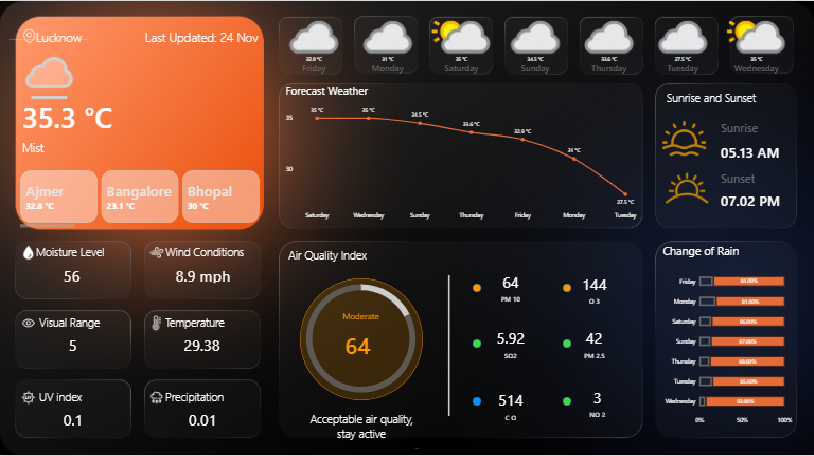

The dashboard page shown, as its layout file describes it:
{"tool":"powerbi","page":{"name":"Orange","canvas":[1920,1080],"ordinal":0},"visuals":[{"type":"shape","box":[707.5,660,290,290],"z":0},{"type":"donutChart","fields":{"Y":["Measure.PM10_Value","Measure.Max_Value"]},"box":[672.5,627.5,357.5,352.5],"z":1000},{"type":"advancedSlicerVisual","fields":{"Values":["Location.location.name"]},"box":[48.3,403.3,565,138.3],"z":2000},{"type":"textbox","box":[52.9,229.2,273.3,99.2],"z":3000},{"type":"textbox","box":[52.9,328.4,401.1,74.9],"z":4000},{"type":"textbox","box":[85,65,240,47.5],"z":5000},{"type":"textbox","box":[342.5,65,290,47.5],"z":6000},{"type":"image","box":[52.9,64.3,32.9,37.1],"z":7000},{"type":"cardVisual","fields":{"Data":["Min(current.current.condition.icon)"]},"box":[17.5,90,197.5,160],"z":8000},{"type":"image","box":[50,578,34,42],"z":9000},{"type":"textbox","title":"Moisture Level","box":[86,578,168,42],"z":10000},{"type":"textbox","title":"Visual Range","box":[92,746,154,42],"z":11000},{"type":"textbox","title":"Wind Conditions","box":[390,578,196,42],"z":12000},{"type":"textbox","title":"Temperature","box":[390,746,162,42],"z":13000},{"type":"textbox","title":"UV index","box":[92,922,130,42],"z":14000},{"type":"image","box":[50,922,34,42],"z":15000},{"type":"image","box":[352,578,34,42],"z":16000},{"type":"image","box":[352,922,34,42],"z":17000},{"type":"image","box":[50,746,34,42],"z":18000},{"type":"image","box":[352,746,34,42],"z":19000},{"type":"textbox","title":"Precipitation","box":[390,922,162,42],"z":20000},{"type":"advanceCardE03760C5AB684758B56AA29F9E6C257B","fields":{"mainMeasure":["Min(current.current.humidity)"]},"box":[48,620,244,66],"z":21000},{"type":"advanceCardE03760C5AB684758B56AA29F9E6C257B","fields":{"mainMeasure":["WindSpeed.WindSpeed"]},"box":[370,620,218,66],"z":22000},{"type":"advanceCardE03760C5AB684758B56AA29F9E6C257B","fields":{"mainMeasure":["Min(current.current.pressure_in)"]},"box":[368,788,218,64],"z":23000},{"type":"advanceCardE03760C5AB684758B56AA29F9E6C257B","fields":{"mainMeasure":["Min(current.current.vis_km)"]},"box":[52,778,240,84],"z":24000},{"type":"advanceCardE03760C5AB684758B56AA29F9E6C257B","fields":{"mainMeasure":["Min(current.current.uv)"]},"box":[52,964,240,64],"z":25000},{"type":"advanceCardE03760C5AB684758B56AA29F9E6C257B","fields":{"mainMeasure":["Min(current.current.precip_in)"]},"box":[370,964,216,64],"z":26000},{"type":"advancedSlicerVisual","fields":{"Values":["forecast_day.Day_Formated"]},"box":[657.5,45,1212.5,137.5],"z":27000},{"type":"lineChart","title":"Forecast Weather","fields":{"Category":["forecast_day.Day_Formated"],"Y":["Sum(forecast_day.forecast.forecastday.day.avgtemp_c)"]},"box":[657.5,182.5,882.5,357.5],"z":28000},{"type":"textbox","title":"Sunrise and Sunset","box":[1573.2,210.6,243.6,41.3],"z":29000},{"type":"textbox","box":[1700,337.5,167.5,47.5],"z":30000},{"type":"textbox","box":[1700,452.5,147.5,40],"z":31000},{"type":"image","box":[1527.5,275,172.5,102.5],"z":32000},{"type":"image","box":[1540,377.5,160,135],"z":33000},{"type":"textbox","title":"Sunset","box":[1700,402.5,167.5,47.5],"z":34000},{"type":"textbox","title":"Sunrise","box":[1700,282.5,167.5,47.5],"z":35000},{"type":"hundredPercentStackedBarChart","title":"Change of Rain","fields":{"Category":["forecast_day.Day_Name"],"Y":["current.Left_Value_Rain","Sum(forecast_day.forecast.forecastday.day.daily_chance_of_rain)"]},"box":[1548,563,337,465],"z":36000},{"type":"textbox","title":"Air Quality Index","box":[680,585,244,40],"z":37000},{"type":"advanceCardE03760C5AB684758B56AA29F9E6C257B","fields":{"mainMeasure":["Min(current.current.air_quality.pm10)"]},"box":[1130,620,150,125],"z":38000},{"type":"advanceCardE03760C5AB684758B56AA29F9E6C257B","fields":{"mainMeasure":["Min(current.current.air_quality.so2)"]},"box":[1130,757.5,150,117.5],"z":39000},{"type":"advanceCardE03760C5AB684758B56AA29F9E6C257B","fields":{"mainMeasure":["Min(current.current.air_quality.o3)"]},"box":[1327.5,625,150,125],"z":40000},{"type":"advanceCardE03760C5AB684758B56AA29F9E6C257B","fields":{"mainMeasure":["Min(current.current.air_quality.no2)"]},"box":[1342.5,895,135,125],"z":41000},{"type":"advanceCardE03760C5AB684758B56AA29F9E6C257B","fields":{"mainMeasure":["Min(current.current.air_quality.pm2_5)"]},"box":[1327.5,757.5,150,117.5],"z":42000},{"type":"advanceCardE03760C5AB684758B56AA29F9E6C257B","fields":{"mainMeasure":["Min(current.current.air_quality.co)"]},"box":[1137.5,907.5,135,112.5],"z":43000},{"type":"shape","box":[1327.5,805,20,20],"z":44000},{"type":"shape","box":[1115,805,20,20],"z":45000},{"type":"shape","box":[1115,942.5,20,20],"z":46000},{"type":"shape","box":[1115,672.5,20,20],"z":47000},{"type":"shape","box":[1327.5,942.5,20,20],"z":48000},{"type":"shape","box":[1327.5,672.5,20,20],"z":49000},{"type":"shape","box":[1017.5,652.5,83.3,335],"z":50000},{"type":"cardVisual","fields":{"Data":["Min(current.current.air_quality.pm10)"]},"box":[752.5,735,197.5,137.5],"z":51000},{"type":"textbox","box":[717.5,975,270,90],"z":51001}]}

Visuals, with their boxes in screenshot pixels (x1, y1, x2, y2), scaled from the page's 1920x1080 canvas onto the 814x456 screenshot:
shape: BBox(300, 279, 423, 401)
donutChart - Measure.PM10_Value x Measure.Max_Value: BBox(285, 265, 437, 414)
advancedSlicerVisual - Location.location.name: BBox(20, 170, 260, 229)
textbox: BBox(22, 97, 138, 139)
textbox: BBox(22, 139, 192, 170)
textbox: BBox(36, 27, 138, 48)
textbox: BBox(145, 27, 268, 48)
image: BBox(22, 27, 36, 43)
cardVisual - Min(current.current.condition.icon): BBox(7, 38, 91, 106)
image: BBox(21, 244, 36, 262)
"Moisture Level" textbox: BBox(36, 244, 108, 262)
"Visual Range" textbox: BBox(39, 315, 104, 333)
"Wind Conditions" textbox: BBox(165, 244, 248, 262)
"Temperature" textbox: BBox(165, 315, 234, 333)
"UV index" textbox: BBox(39, 389, 94, 407)
image: BBox(21, 389, 36, 407)
image: BBox(149, 244, 164, 262)
image: BBox(149, 389, 164, 407)
image: BBox(21, 315, 36, 333)
image: BBox(149, 315, 164, 333)
"Precipitation" textbox: BBox(165, 389, 234, 407)
advanceCardE03760C5AB684758B56AA29F9E6C257B - Min(current.current.humidity): BBox(20, 262, 124, 290)
advanceCardE03760C5AB684758B56AA29F9E6C257B - WindSpeed.WindSpeed: BBox(157, 262, 249, 290)
advanceCardE03760C5AB684758B56AA29F9E6C257B - Min(current.current.pressure_in): BBox(156, 333, 248, 360)
advanceCardE03760C5AB684758B56AA29F9E6C257B - Min(current.current.vis_km): BBox(22, 328, 124, 364)
advanceCardE03760C5AB684758B56AA29F9E6C257B - Min(current.current.uv): BBox(22, 407, 124, 434)
advanceCardE03760C5AB684758B56AA29F9E6C257B - Min(current.current.precip_in): BBox(157, 407, 248, 434)
advancedSlicerVisual - forecast_day.Day_Formated: BBox(279, 19, 793, 77)
"Forecast Weather" lineChart: BBox(279, 77, 653, 228)
"Sunrise and Sunset" textbox: BBox(667, 89, 770, 106)
textbox: BBox(721, 142, 792, 163)
textbox: BBox(721, 191, 783, 208)
image: BBox(648, 116, 721, 159)
image: BBox(653, 159, 721, 216)
"Sunset" textbox: BBox(721, 170, 792, 190)
"Sunrise" textbox: BBox(721, 119, 792, 139)
"Change of Rain" hundredPercentStackedBarChart: BBox(656, 238, 799, 434)
"Air Quality Index" textbox: BBox(288, 247, 392, 264)
advanceCardE03760C5AB684758B56AA29F9E6C257B - Min(current.current.air_quality.pm10): BBox(479, 262, 543, 315)
advanceCardE03760C5AB684758B56AA29F9E6C257B - Min(current.current.air_quality.so2): BBox(479, 320, 543, 369)
advanceCardE03760C5AB684758B56AA29F9E6C257B - Min(current.current.air_quality.o3): BBox(563, 264, 626, 317)
advanceCardE03760C5AB684758B56AA29F9E6C257B - Min(current.current.air_quality.no2): BBox(569, 378, 626, 431)
advanceCardE03760C5AB684758B56AA29F9E6C257B - Min(current.current.air_quality.pm2_5): BBox(563, 320, 626, 369)
advanceCardE03760C5AB684758B56AA29F9E6C257B - Min(current.current.air_quality.co): BBox(482, 383, 539, 431)
shape: BBox(563, 340, 571, 348)
shape: BBox(473, 340, 481, 348)
shape: BBox(473, 398, 481, 406)
shape: BBox(473, 284, 481, 292)
shape: BBox(563, 398, 571, 406)
shape: BBox(563, 284, 571, 292)
shape: BBox(431, 276, 467, 417)
cardVisual - Min(current.current.air_quality.pm10): BBox(319, 310, 403, 368)
textbox: BBox(304, 412, 419, 450)
